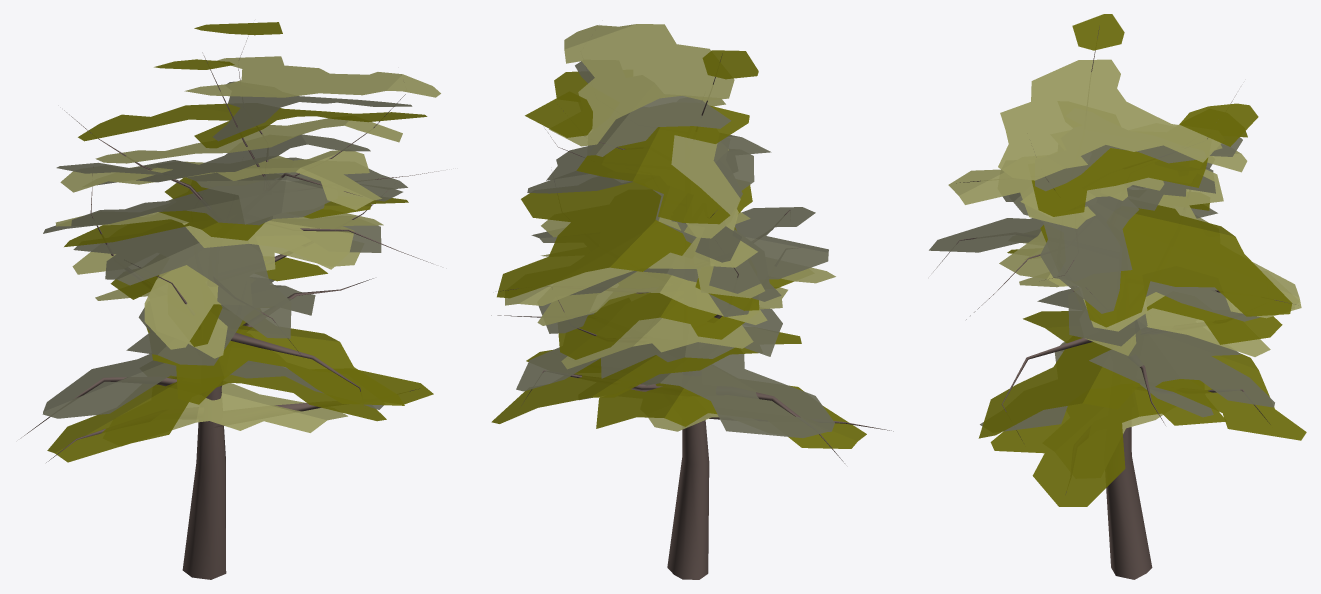
File: Tree4.dae
3 views of the same model, side by side, from view 1: azimuth 30°, elevation 25°; view 2: azimuth 150°, elevation 25°; view 3: azimuth 270°, elevation 25° (orthographic). The views are drawn at different scales.
Visible parts, largest first — view 1: group_10, group_8, group_4, group_1 (×2), group_14, group_5, group_19, group_6, group_12, group_17, group_16, group_13 (+9 smaller); view 2: group_3, group_14, group_16, group_6, group_10, group_7, group_1, group_4, group_8, group_11, group_5, group_21 (+8 smaller); view 3: group_14, group_3, group_4, group_8, group_11, group_10, group_19, group_16, group_1, group_12, group_22 (×2), group_17 (+7 smaller).
Part boxes in pixels (<box>): group_10: <box>73,225,381,338</box>; group_8: <box>47,370,433,462</box>; group_4: <box>146,320,404,405</box>; group_1 (×2): <box>182,173,364,579</box>; group_14: <box>184,56,440,97</box>; group_5: <box>72,198,359,349</box>; group_19: <box>56,157,407,224</box>; group_6: <box>42,354,383,418</box>; group_12: <box>55,212,383,269</box>; group_17: <box>60,150,381,210</box>; group_16: <box>78,103,427,148</box>; group_13: <box>121,383,347,446</box>; group_3: <box>497,182,759,310</box>; group_14: <box>549,24,734,146</box>; group_16: <box>554,71,749,224</box>; group_6: <box>579,354,834,438</box>; group_10: <box>531,207,828,333</box>; group_7: <box>558,278,794,359</box>; group_1: <box>667,420,709,579</box>; group_4: <box>491,332,801,423</box>; group_8: <box>526,349,866,448</box>; group_11: <box>516,308,782,391</box>; group_5: <box>537,254,835,325</box>; group_21: <box>527,154,781,301</box>; group_14: <box>998,59,1221,180</box>; group_3: <box>1040,203,1292,327</box>; group_4: <box>978,311,1306,440</box>; group_8: <box>990,384,1225,506</box>; group_11: <box>1037,289,1274,407</box>; group_10: <box>929,208,1260,346</box>; group_19: <box>1002,137,1242,281</box>; group_16: <box>1031,124,1247,216</box>; group_1: <box>956,180,1152,579</box>; group_12: <box>999,169,1301,331</box>; group_22 (×2): <box>1072,14,1258,146</box>; group_17: <box>948,151,1247,228</box>.
Bounding box in the file's own units: 288 × 241 × 373.
